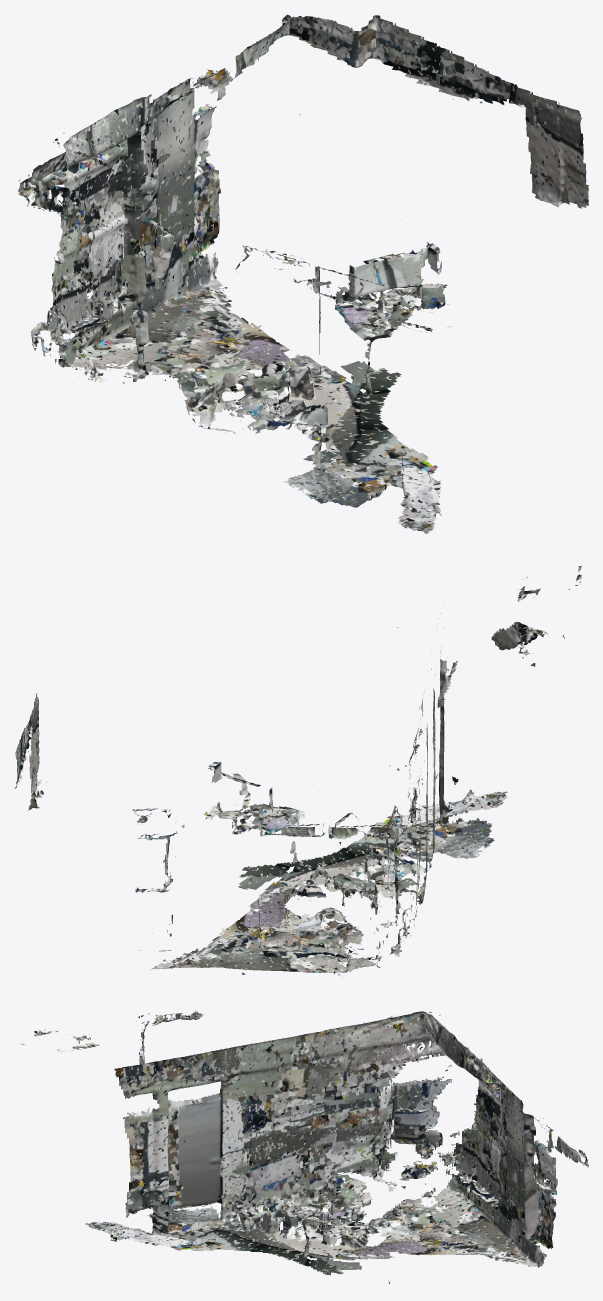
3 views of the same model, one above another, from view 1: azimuth 30°, elevation 25°; view 2: azimuth 150°, elevation 25°; view 3: azimuth 270°, elevation 25° (orthographic). The views are drawn at different scales.
Parts seen in each view (by area): view 1: Node; view 2: Node; view 3: Node.
Part boxes in pixels (box(x1,y1,x2,y2)): Node: box(18, 14, 588, 533); Node: box(14, 566, 581, 977); Node: box(20, 1010, 588, 1283).
Size of the model in its own units: 6.21 by 3.11 by 8.51.
Materials: 1 (1 with a texture image).
